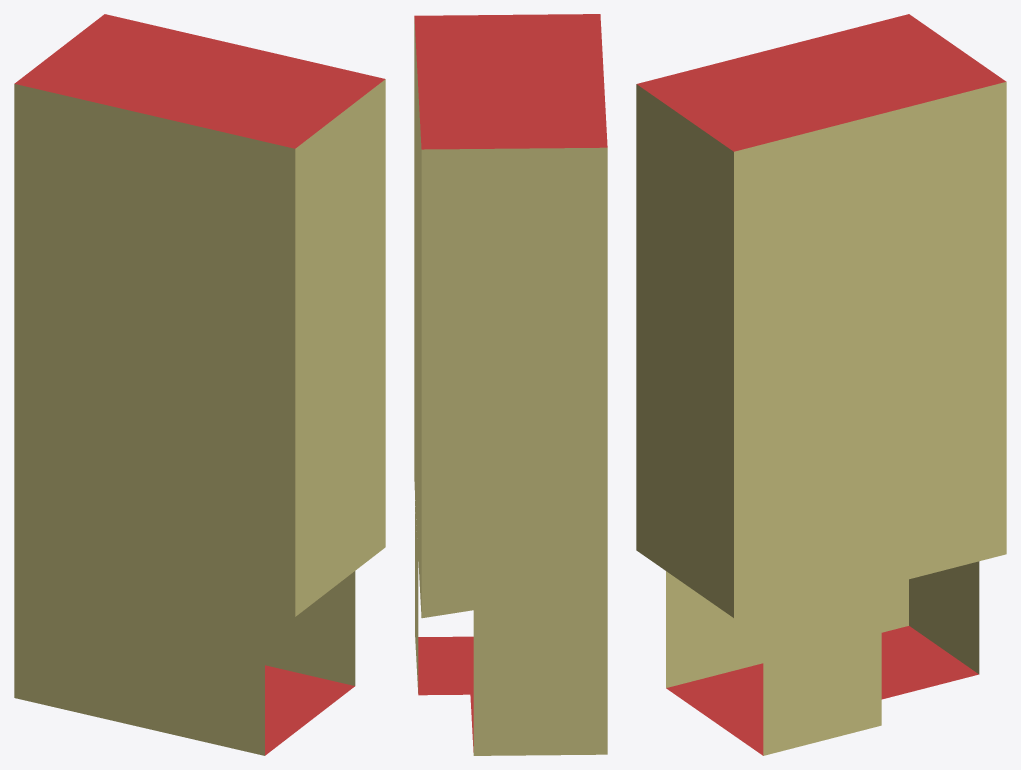
3 renders of one model, left to right at view 1: azimuth 30°, elevation 25°; view 2: azimuth 150°, elevation 25°; view 3: azimuth 270°, elevation 25°, orthographic.
Bounding box in the file's own units: 19.64 × 22.3 × 40.67.
